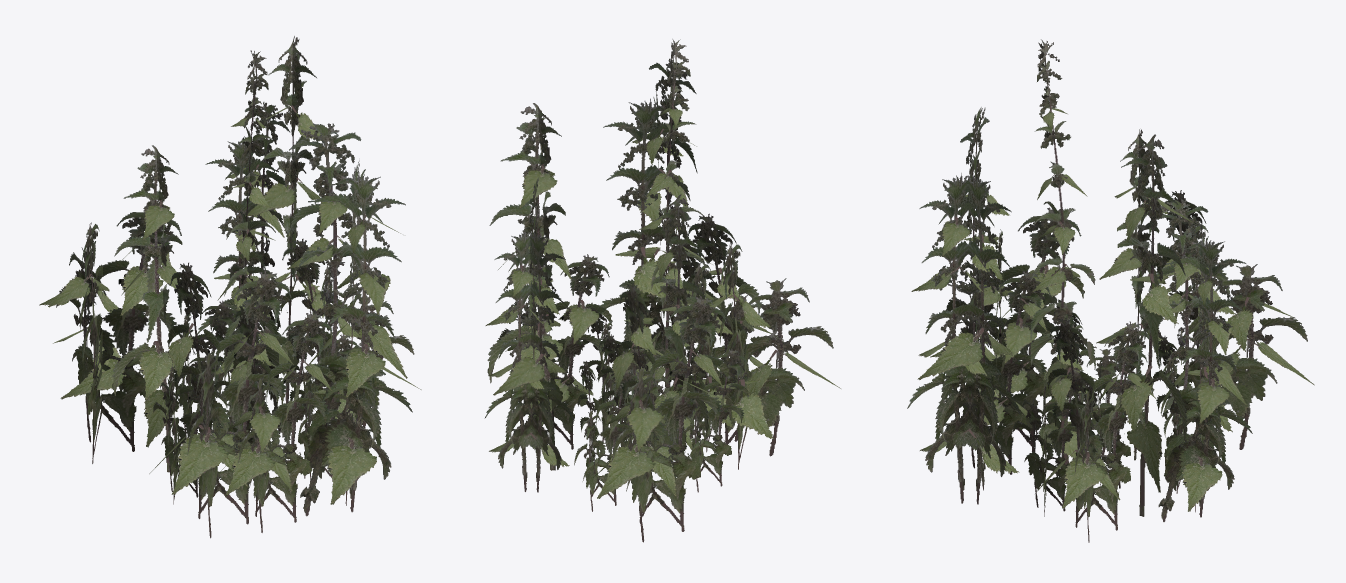
File: SM_Plant_Forest_12.fbx
The picture shows the model from 3 angles, left to right: view 1: azimuth 30°, elevation 25°; view 2: azimuth 150°, elevation 25°; view 3: azimuth 270°, elevation 25°; orthographic projection. The views are drawn at different scales.
Visible parts, largest first — view 1: SM_Plant_Forest_12; view 2: SM_Plant_Forest_12; view 3: SM_Plant_Forest_12.
Part boxes in pixels (x1,y1,x2,y2): SM_Plant_Forest_12: [39, 36, 421, 538]; SM_Plant_Forest_12: [484, 39, 840, 542]; SM_Plant_Forest_12: [907, 39, 1314, 542].
Size of the model in its own units: 58.95 by 69.39 by 81.
Materials: 1 (1 with a texture image).
